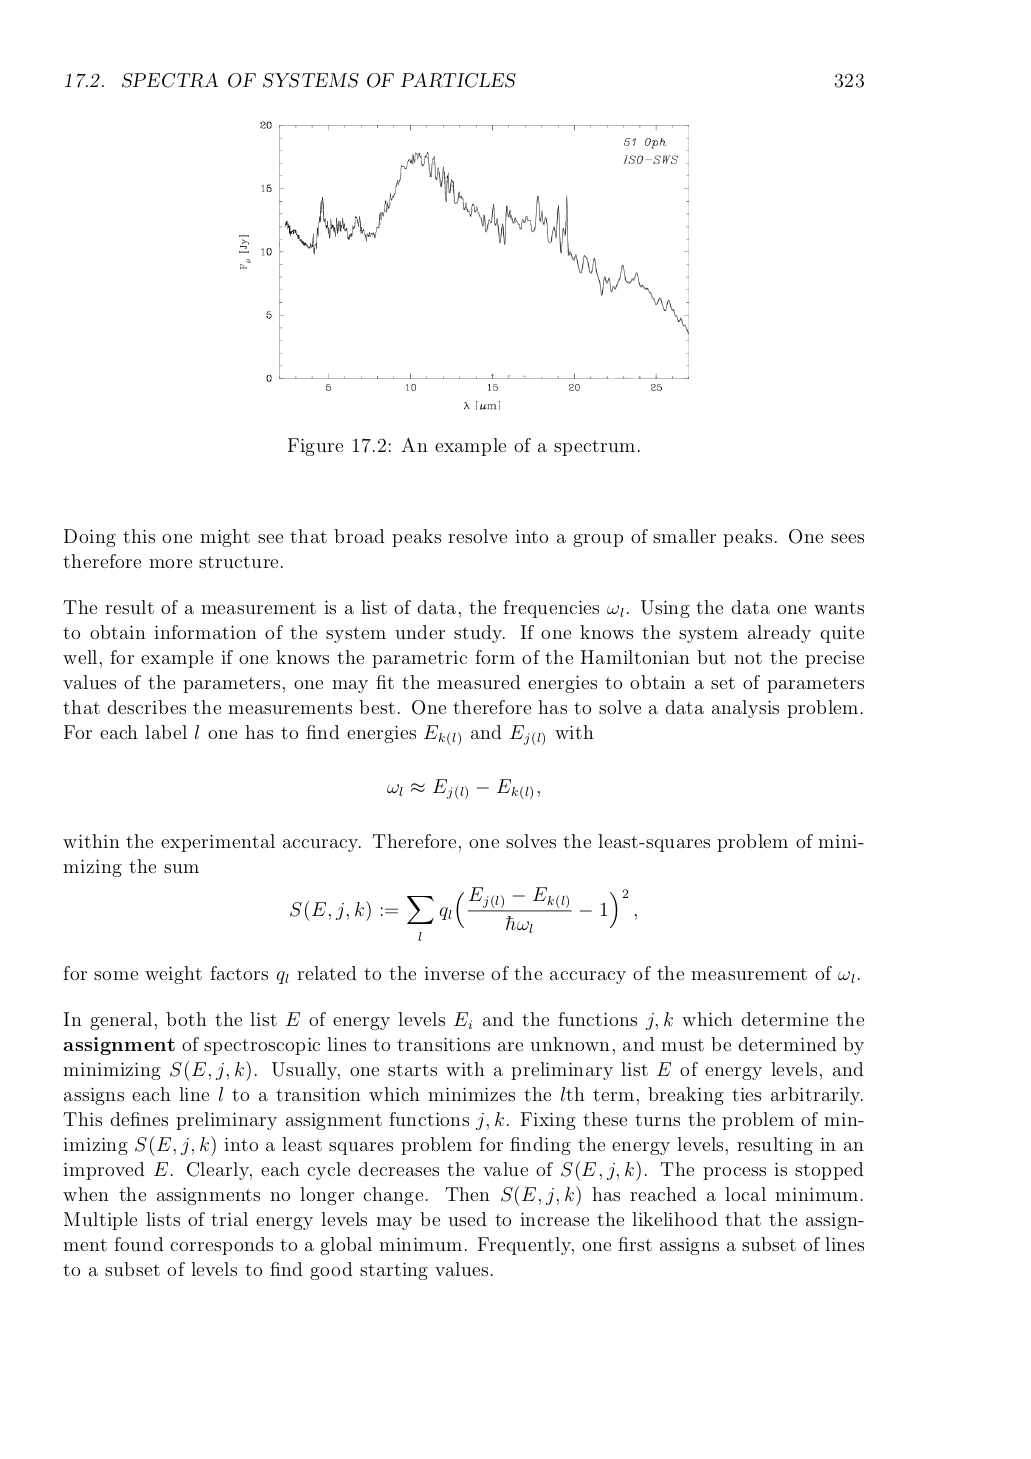figure: (239, 120, 688, 409)
formula: (290, 885, 636, 941), (387, 777, 539, 800)
